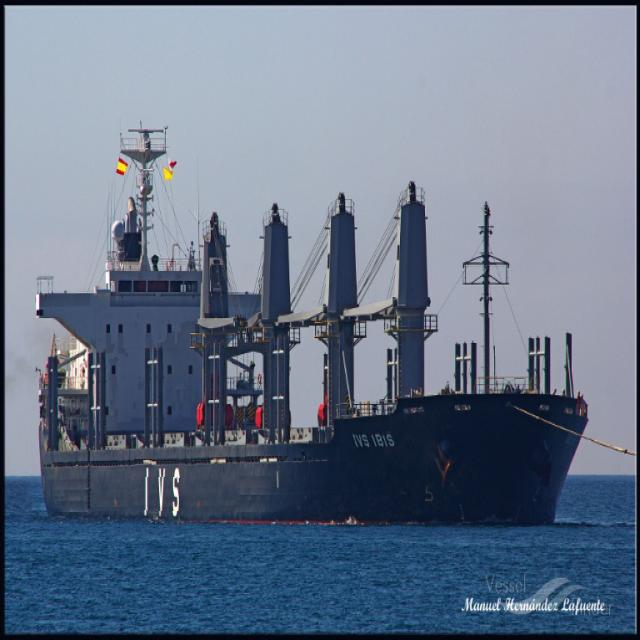OCR: (135, 459, 195, 522), (348, 427, 398, 455)
